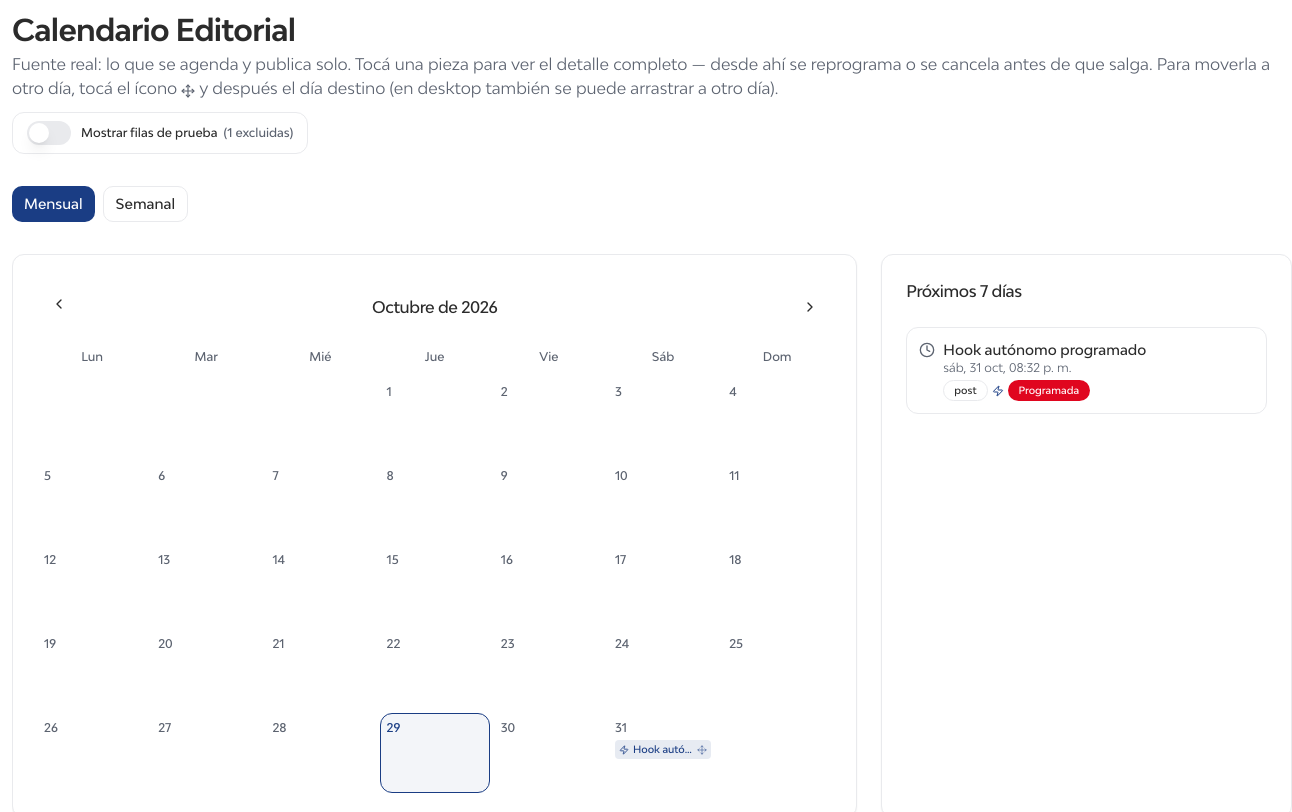
Calendario Page › excludes [TEST/QA] rows from upcoming by default and shows them behind the toggle
This screenshot has width=1292, height=812.
Expected: the text "Hook de prueba QA" is not shown
Click the switch. click: (49,133)
box: x1=27 y1=121 x2=71 y2=145
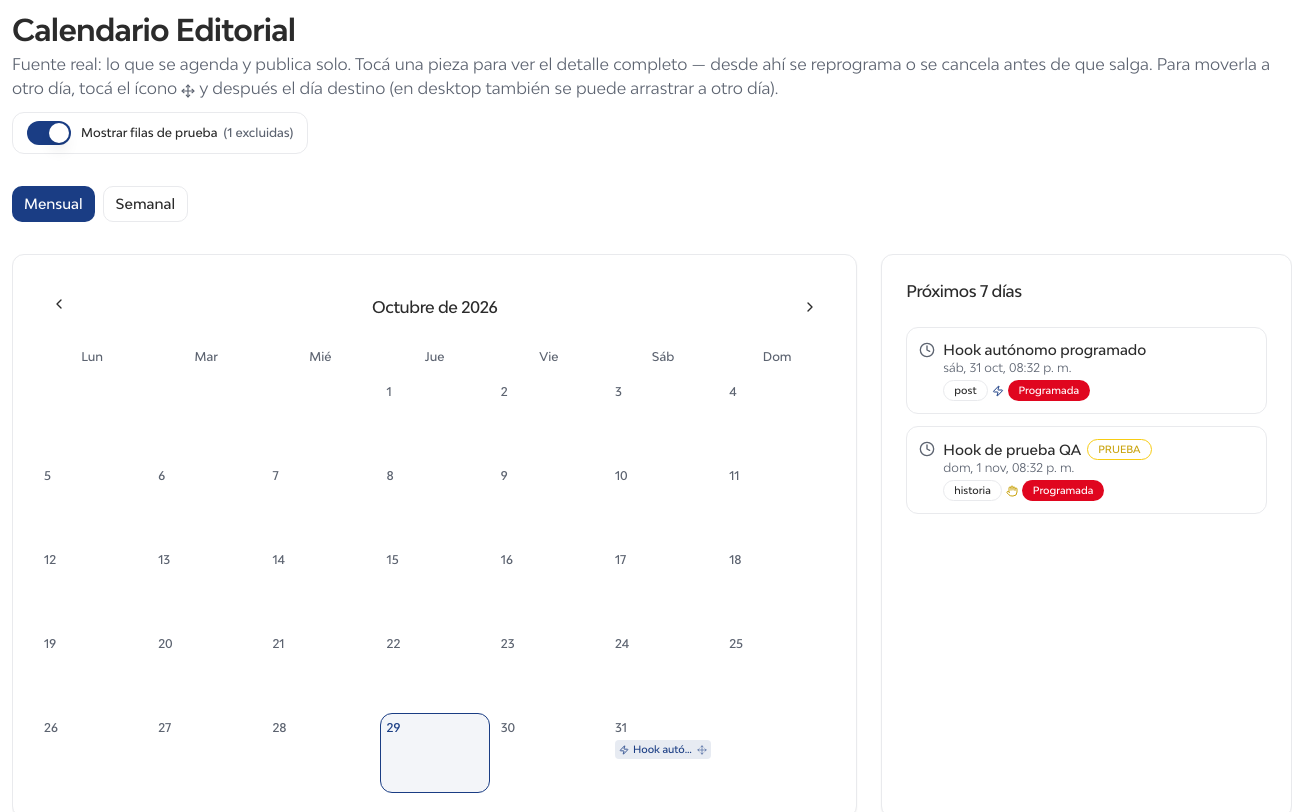
Expected: the text "Hook de prueba QA" is shown, x1=943 y1=440 x2=1081 y2=460
Expected: the text "PRUEBA" is shown, x1=1087 y1=439 x2=1152 y2=460
